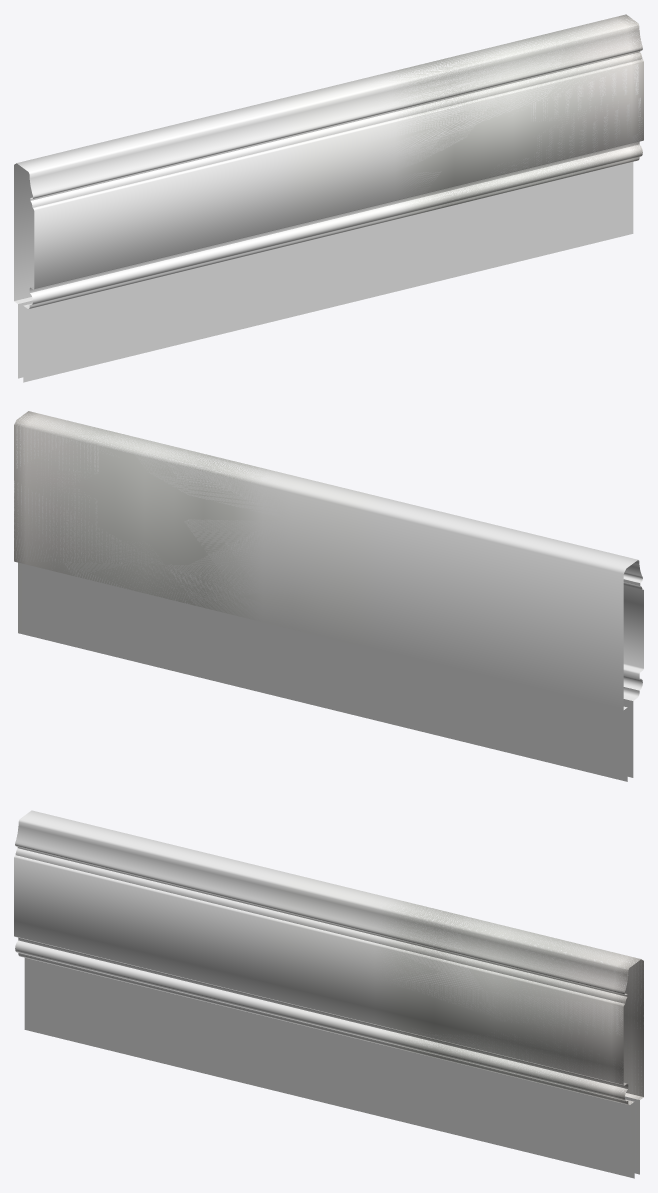
File: original-51.obj
3 views of the same model, one above another, from view 1: azimuth 30°, elevation 25°; view 2: azimuth 150°, elevation 25°; view 3: azimuth 330°, elevation 25° (orthographic).
Parts seen in each view (by area): view 1: RT_11_TC1/RT_11_TC/mesh37/mesh37-geometry#mesh37-geometry; view 2: RT_11_TC1/RT_11_TC/mesh37/mesh37-geometry#mesh37-geometry; view 3: RT_11_TC1/RT_11_TC/mesh37/mesh37-geometry#mesh37-geometry.
Part boxes in pixels (x1=…): RT_11_TC1/RT_11_TC/mesh37/mesh37-geometry#mesh37-geometry: x1=14, y1=14, x2=643, y2=382; RT_11_TC1/RT_11_TC/mesh37/mesh37-geometry#mesh37-geometry: x1=14, y1=411, x2=643, y2=781; RT_11_TC1/RT_11_TC/mesh37/mesh37-geometry#mesh37-geometry: x1=14, y1=810, x2=643, y2=1178.
Bounding box in the file's own units: 0.589 × 0.1979 × 0.0338.
